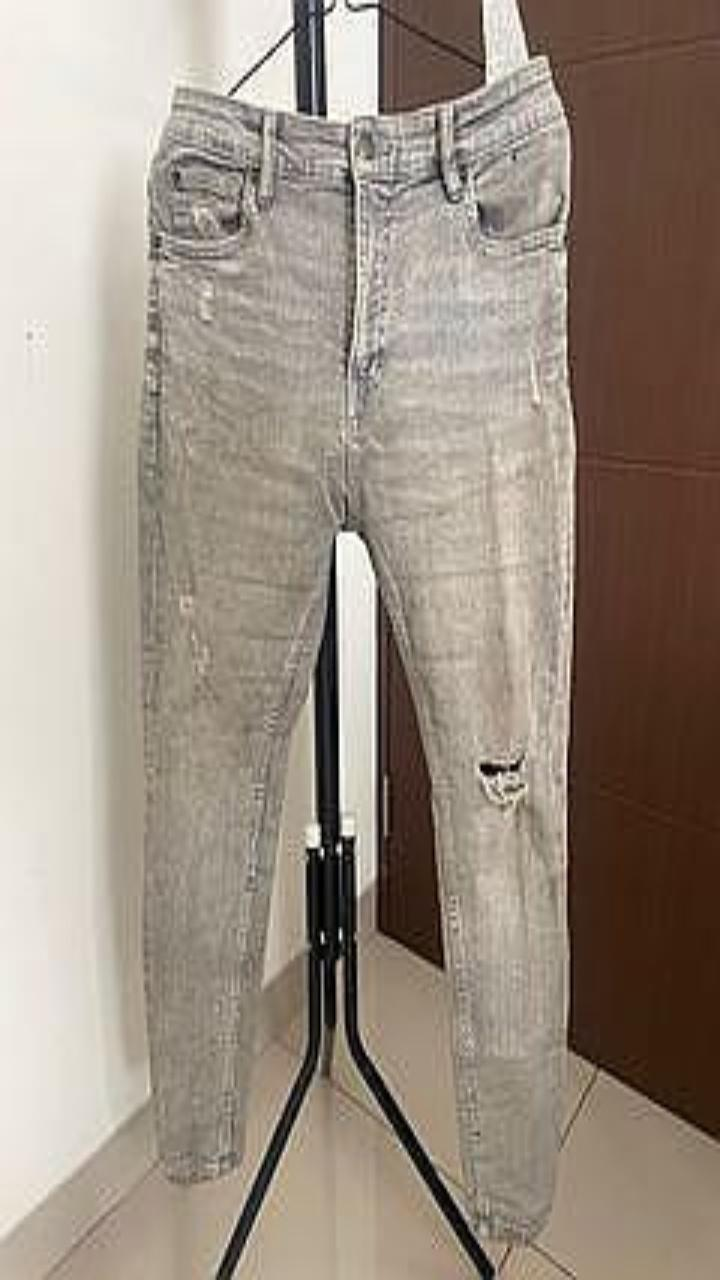Jeans: (139, 55, 574, 1240)
